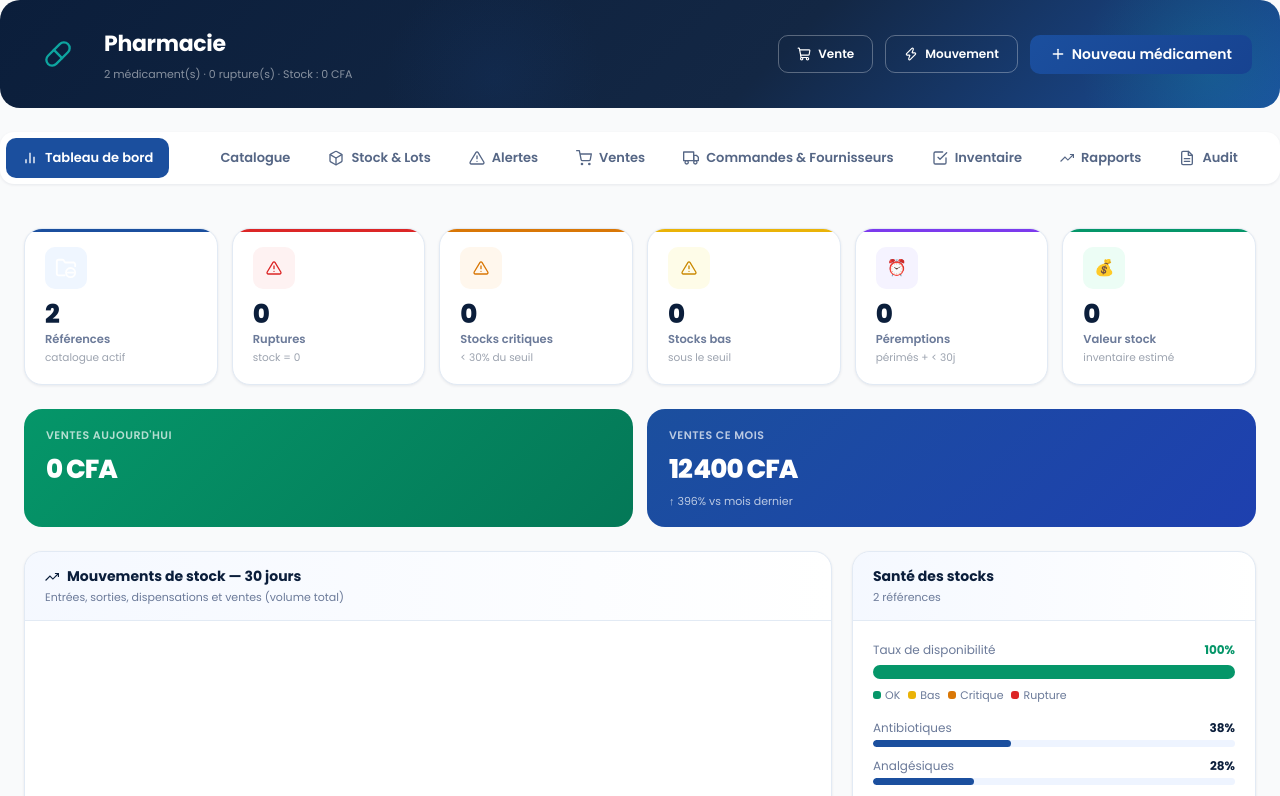
it: POST5-012 — "Consommation mensuelle" et "Revenus par catégorie" reflètent les vrais mouvements du mois, jamais [450,320,280,210,180] ni les 5 montants fixes cod
expect the text "Tableau de bord" is shown: met, box left=45, top=148, right=153, bottom=168
Click the button "Rapports" at (1101, 158), box left=1044, top=138, right=1158, bottom=178
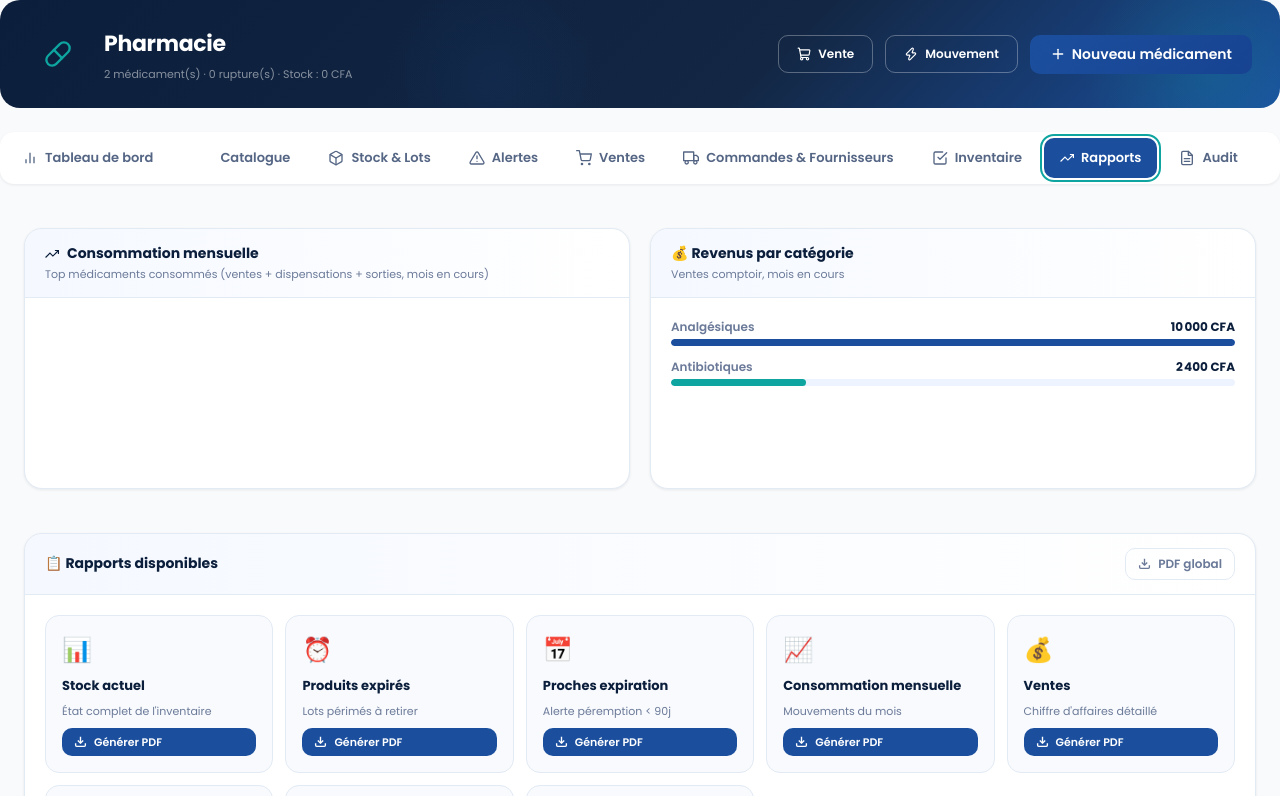
expect the text "Analgésiques" is shown: met, box left=671, top=318, right=754, bottom=336
expect the heading "📋 Rapports disponibles" is shown: met, box left=45, top=553, right=218, bottom=574
